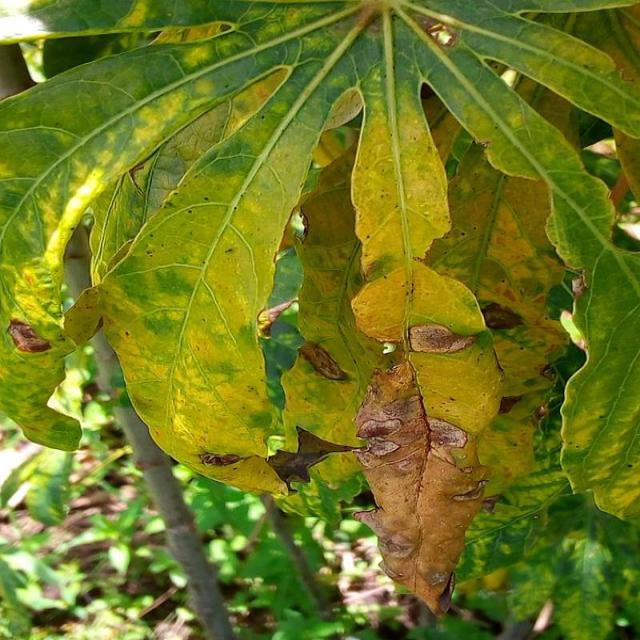cassava leaf: (0, 1, 638, 622)
